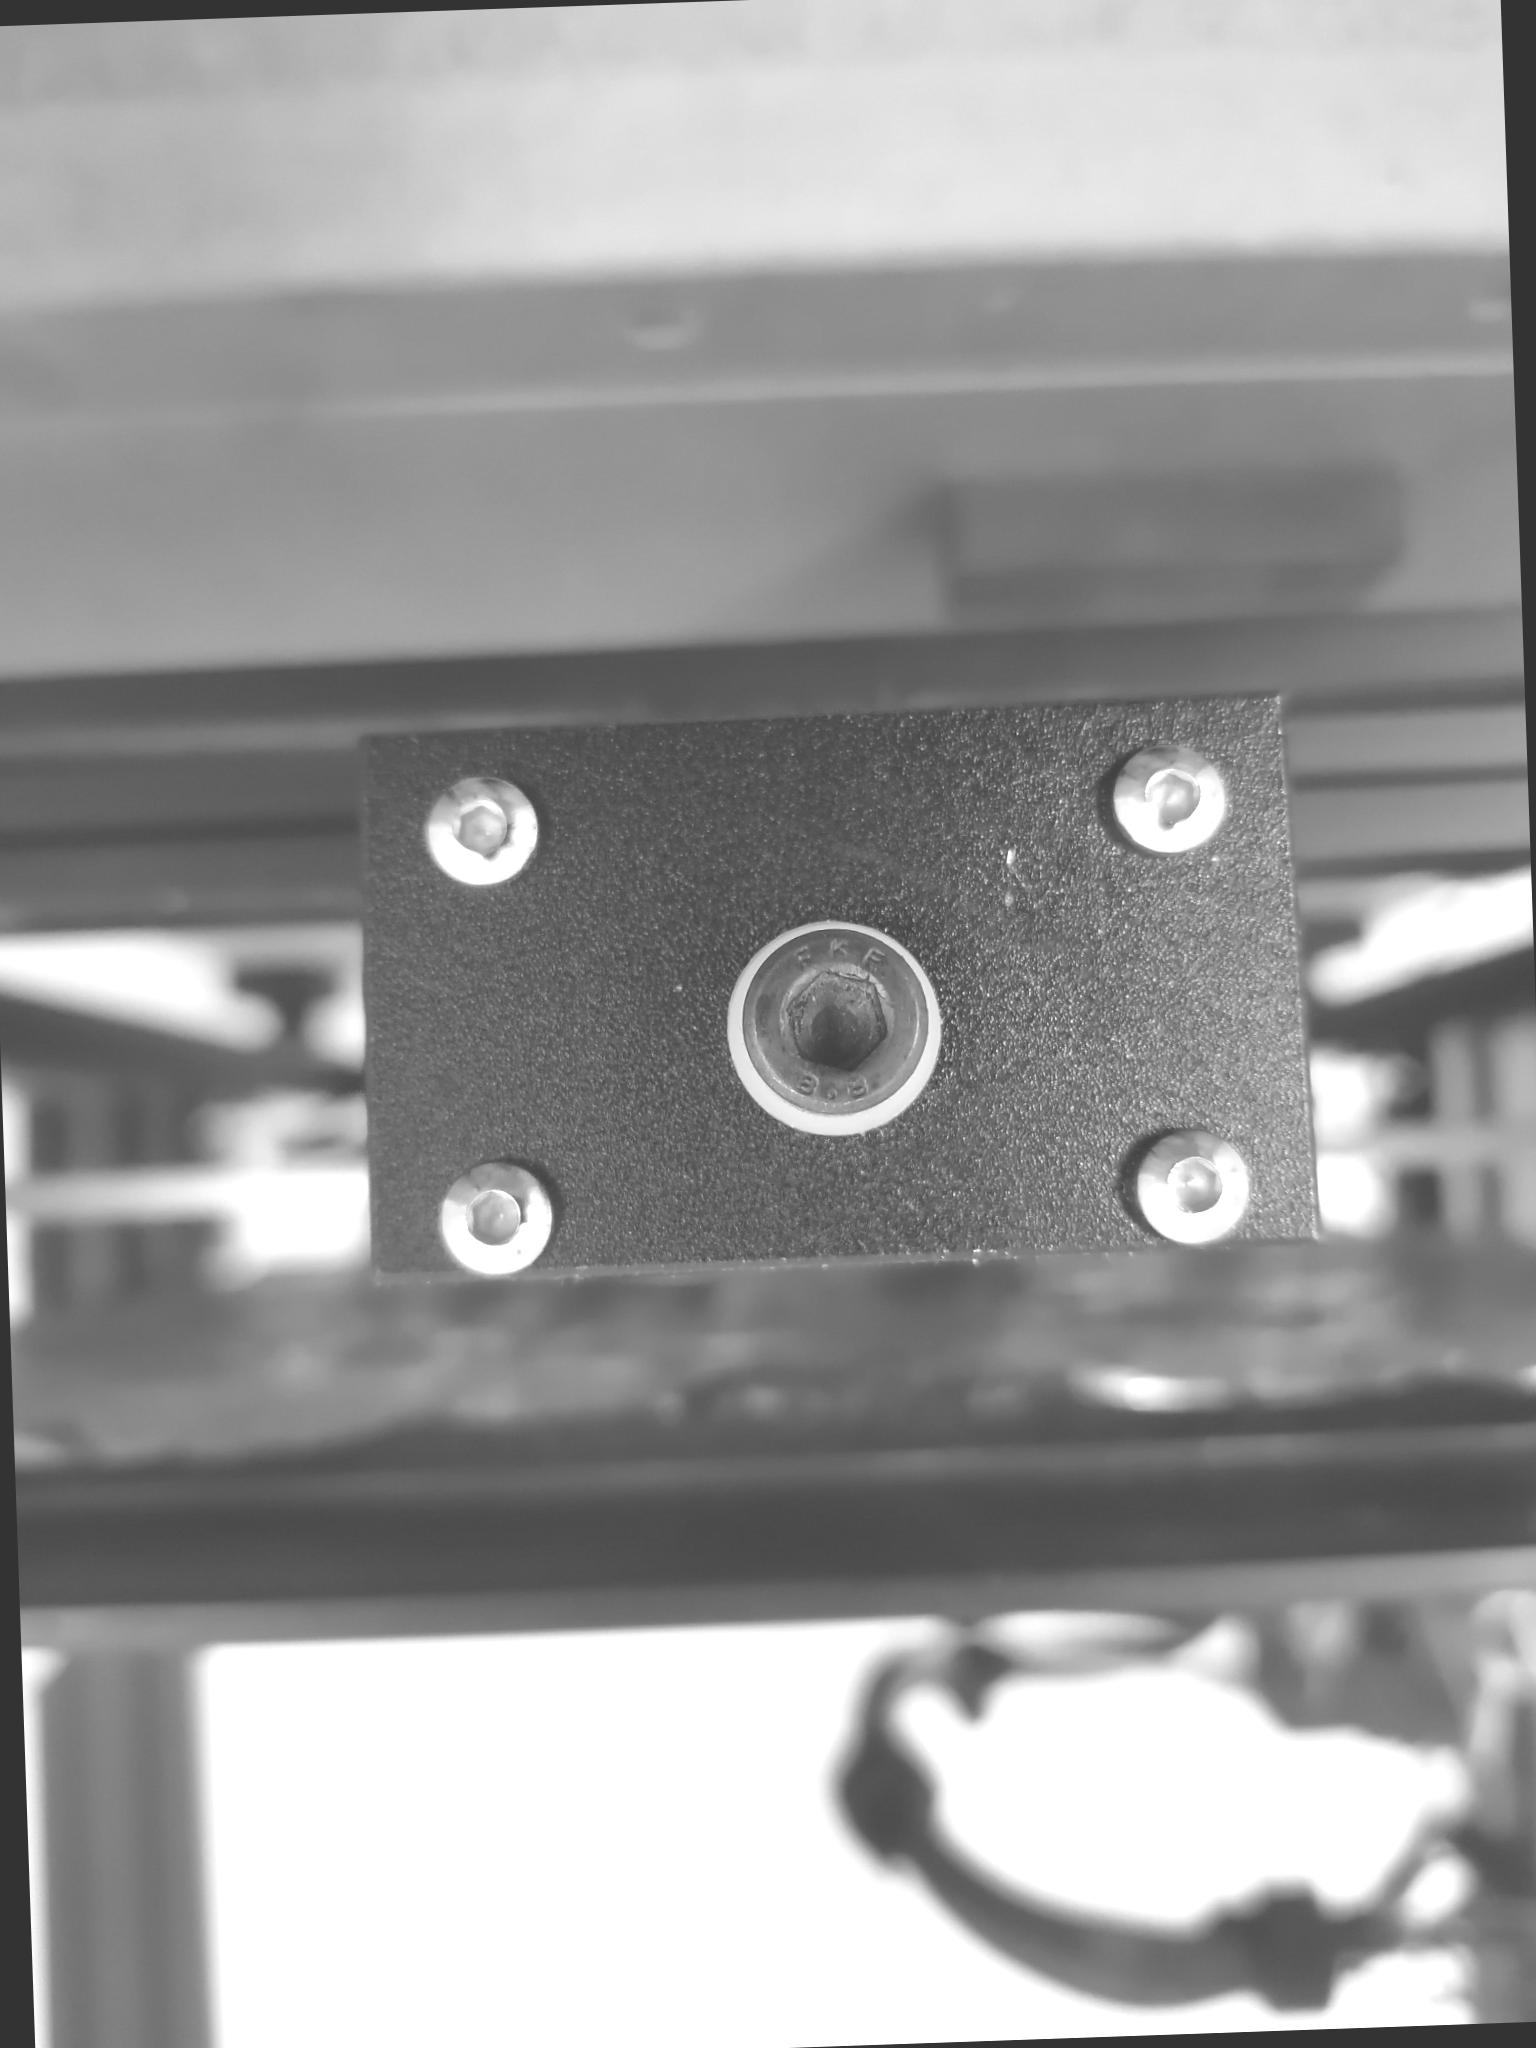allen: (725, 914, 947, 1128), (1124, 1115, 1260, 1254), (1103, 736, 1242, 868), (415, 766, 548, 898), (432, 1152, 561, 1287)
